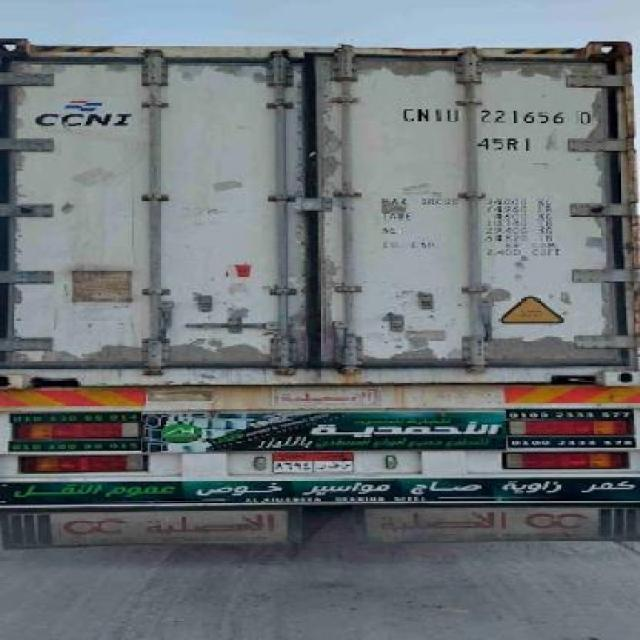ISO: (474, 134, 536, 154)
container_number: (407, 104, 592, 126)
